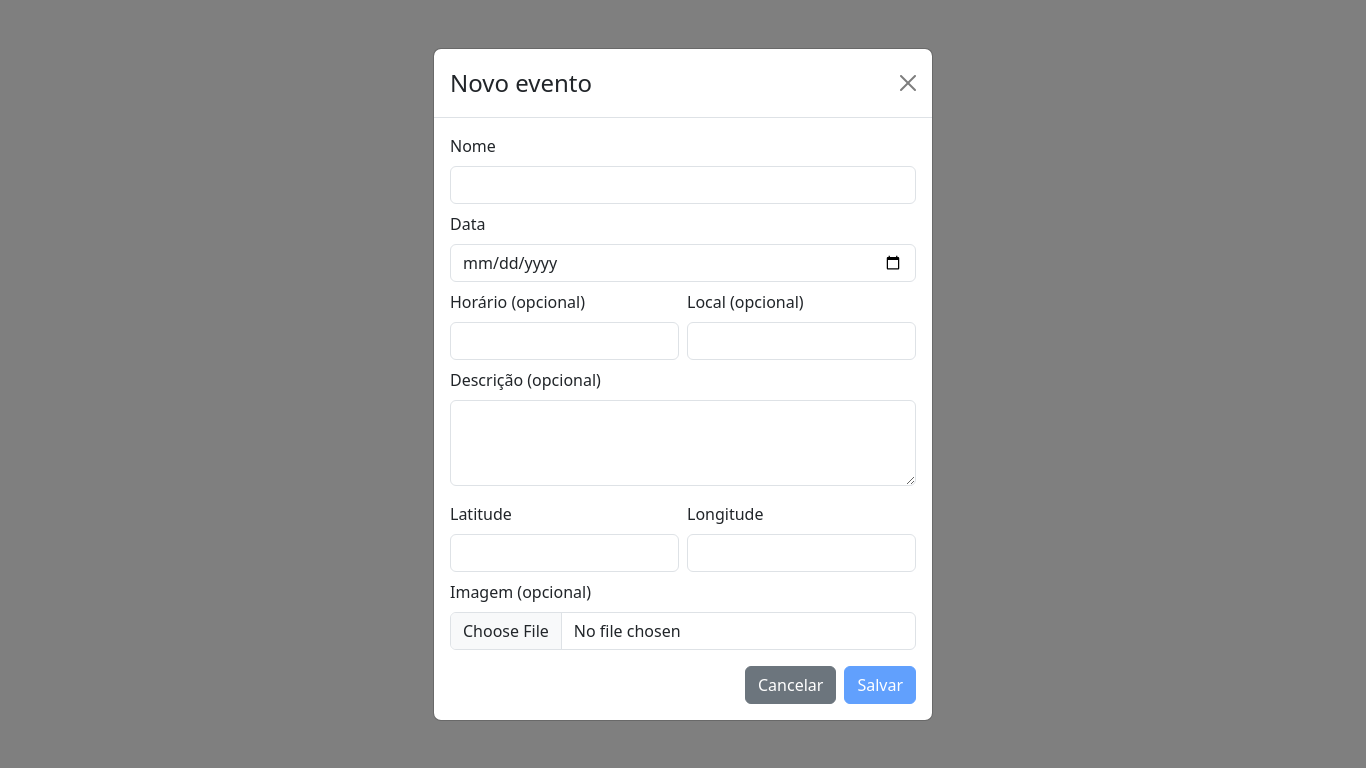
EventoFormModal › mostra erro para latitude/longitude inválidas
Type "Evento" into the field labelled "Nome".
click(683, 184); type("Evento")  # box [450,166,916,204]
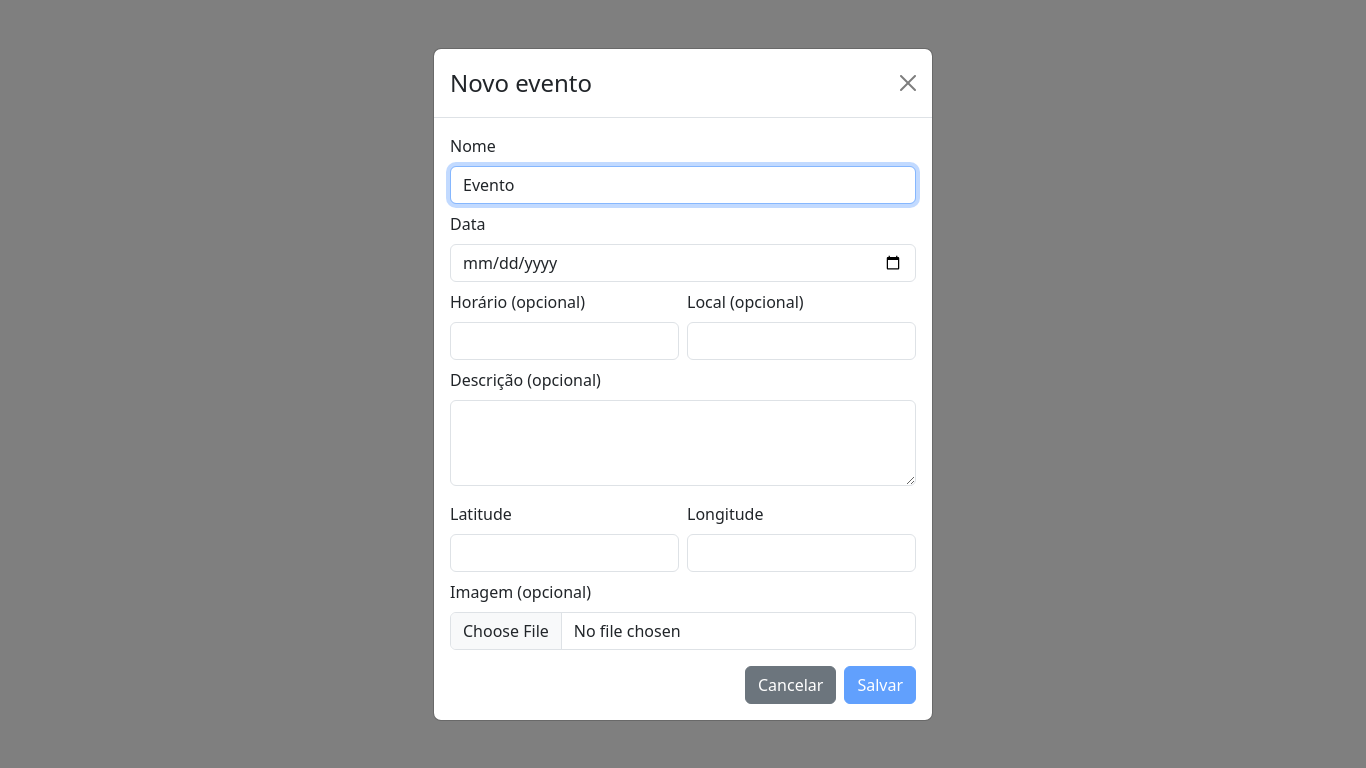
Type "2025-01-01" into the date field labelled "Data".
click(683, 262); type("2025-01-01")  # box [450,244,916,282]
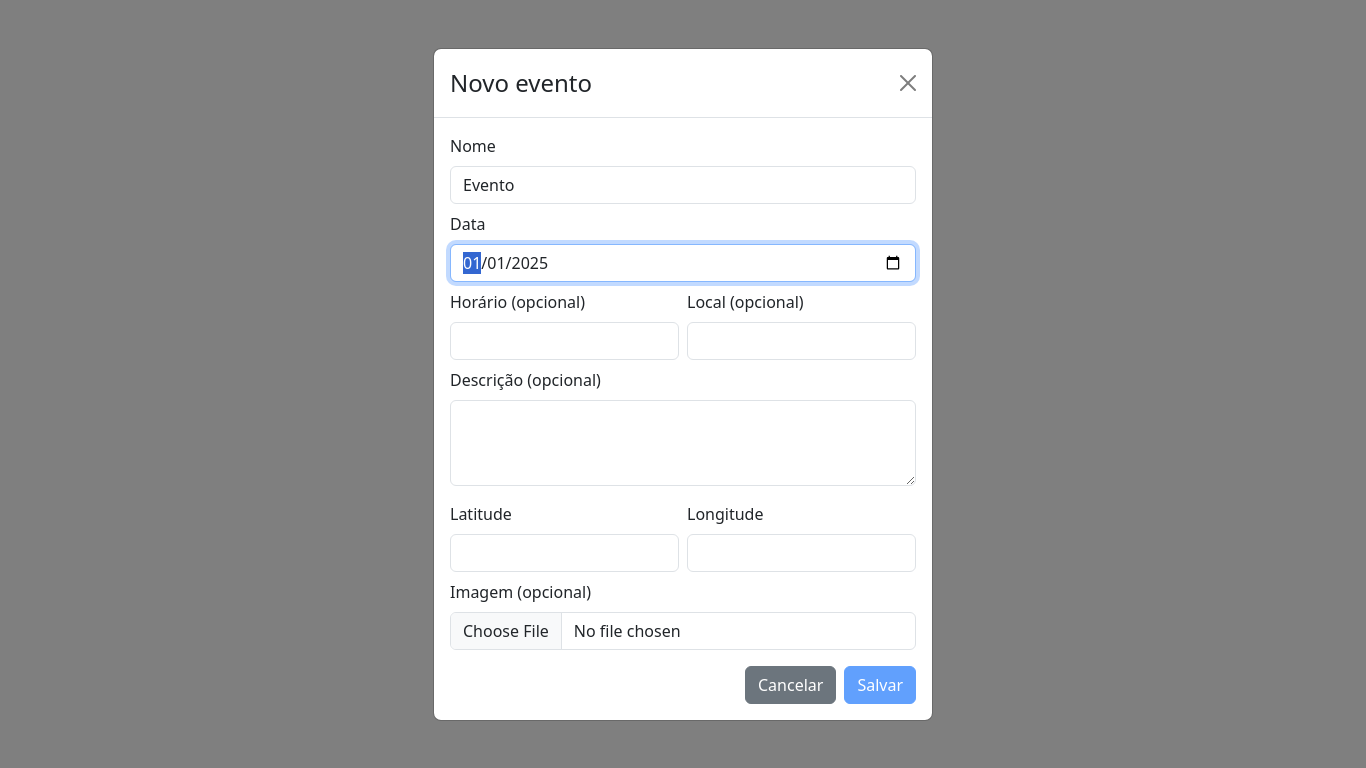
Type "abc" into the field labelled "Latitude".
click(564, 552); type("abc")  # box [450,534,679,572]
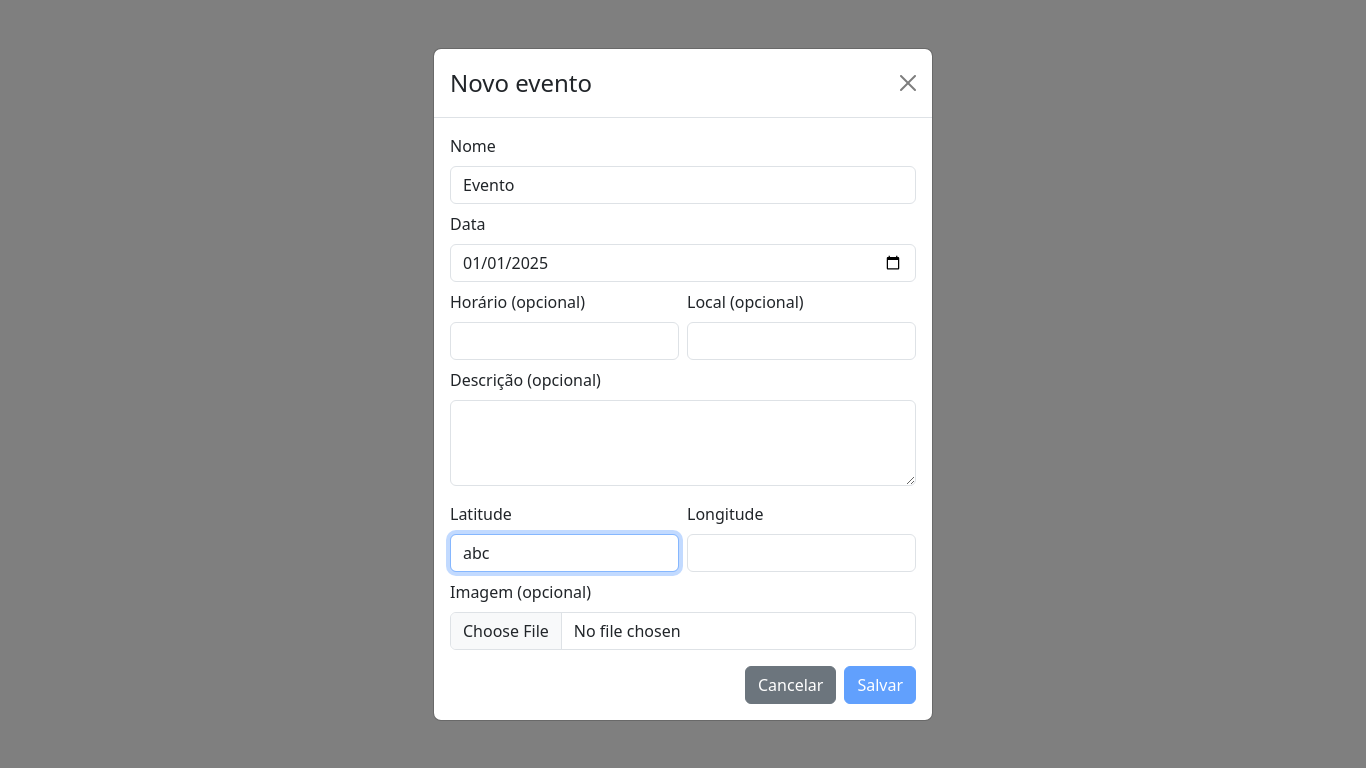
Type "1" into the field labelled "Longitude".
click(802, 552); type("1")  # box [687,534,916,572]
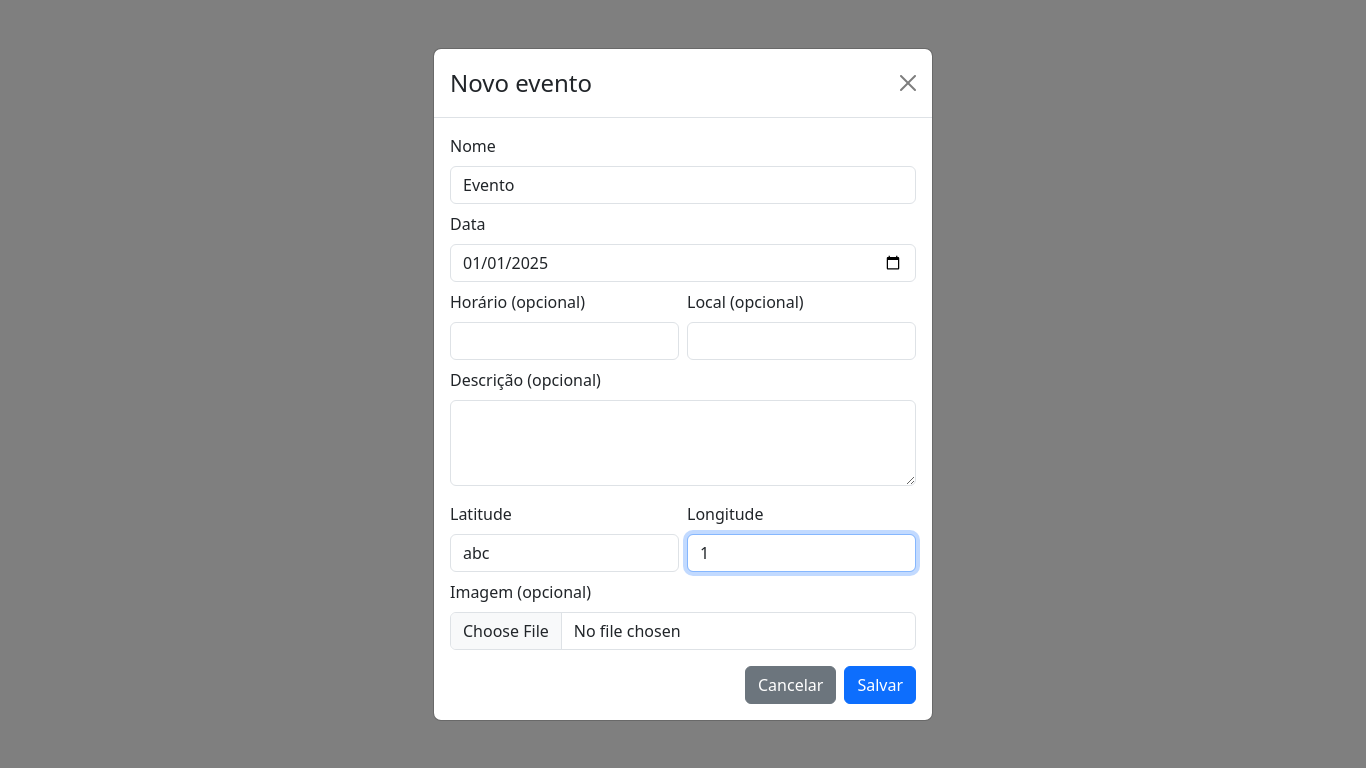
Click the button "Salvar".
click(880, 684)  # box [844,666,916,704]
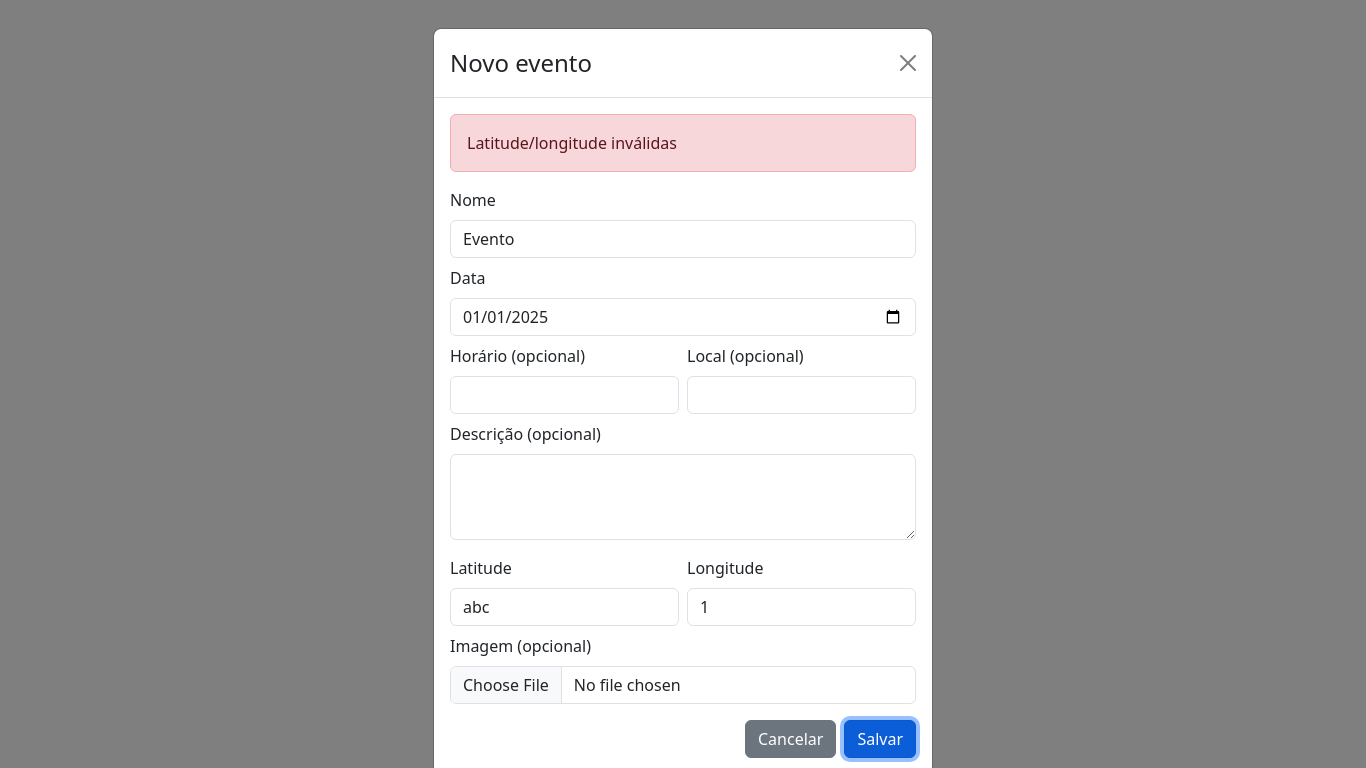
expect the text "Latitude/longitude inválidas" is shown: met, box [450,114,916,172]
